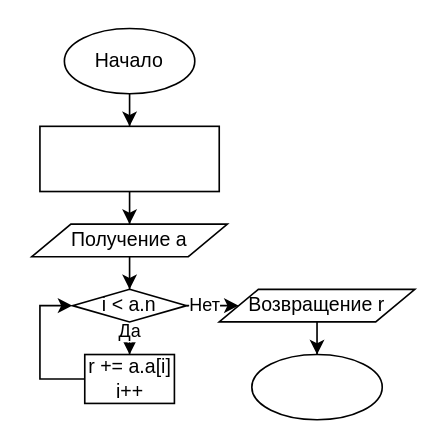
Some shapes in this 443 by 448 pixel diagram are drawn without their labels. Here are the shapes that lost their labels. From the top down, the centre of each, then its label:
(x=128, y=158): Объект типа Arr a Вещественное r Целое i = 0
(x=316, y=386): Конец
